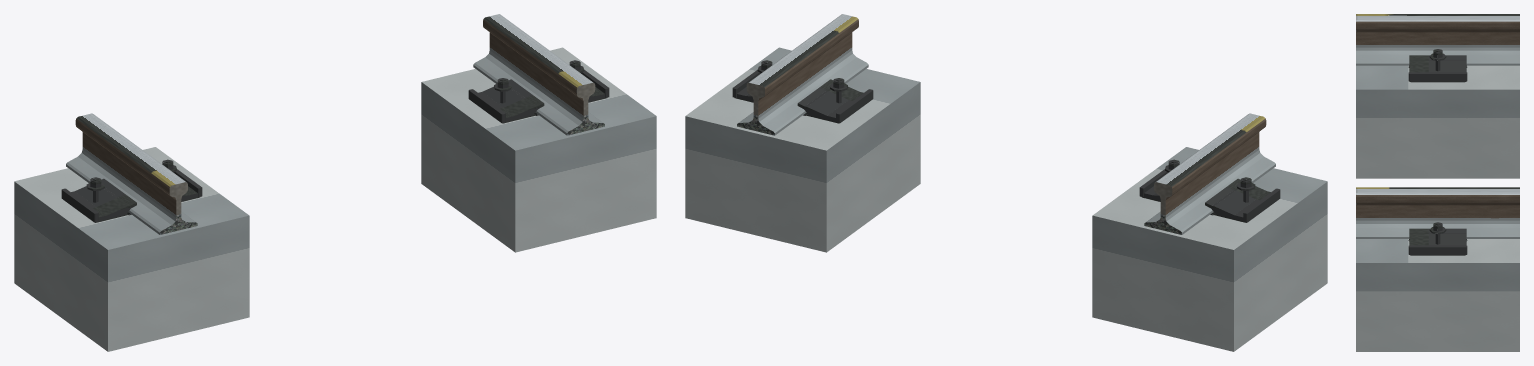
The model's file is direct_mid.obj.
3 views of the same model, side by side, from view 1: azimuth 30°, elevation 25°; view 2: azimuth 150°, elevation 25°; view 3: azimuth 270°, elevation 25° (orthographic). The views are drawn at different scales.
Parts seen in each view (by area): view 1: direct_bearer, rail_left, rail_right, fastener_left, fastener_right, rail_left_end, rail_right_end; view 2: direct_bearer, rail_left, rail_right, fastener_left, fastener_right, rail_left_end, rail_right_end; view 3: direct_bearer, rail_right, rail_left, fastener_left, fastener_right.
Part boxes in pixels (<box>): direct_bearer: <box>14,47,656,351</box>; rail_left: <box>66,113,195,234</box>; rail_right: <box>473,14,602,135</box>; fastener_left: <box>61,159,202,222</box>; fastener_right: <box>468,60,609,123</box>; rail_left_end: <box>160,182,197,234</box>; rail_right_end: <box>567,83,604,135</box>; direct_bearer: <box>685,47,1327,351</box>; rail_left: <box>1146,113,1275,234</box>; rail_right: <box>739,14,868,135</box>; fastener_left: <box>1139,159,1280,222</box>; fastener_right: <box>732,60,873,123</box>; rail_left_end: <box>1144,182,1181,234</box>; rail_right_end: <box>737,83,774,135</box>; direct_bearer: <box>1356,65,1519,351</box>; rail_right: <box>1356,187,1519,238</box>; rail_left: <box>1356,14,1519,65</box>; fastener_left: <box>1408,49,1467,82</box>; fastener_right: <box>1408,222,1467,255</box>.
Bounding box in the file's own units: 2.03 × 0.5324 × 0.6.
